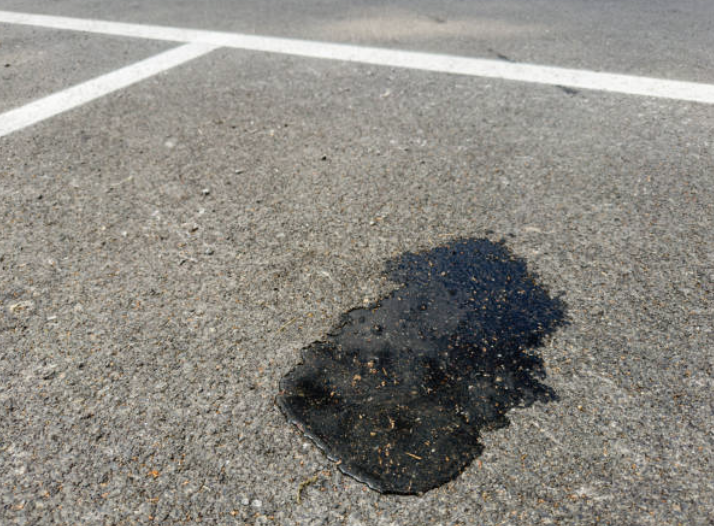oil: (136, 118, 285, 247)
